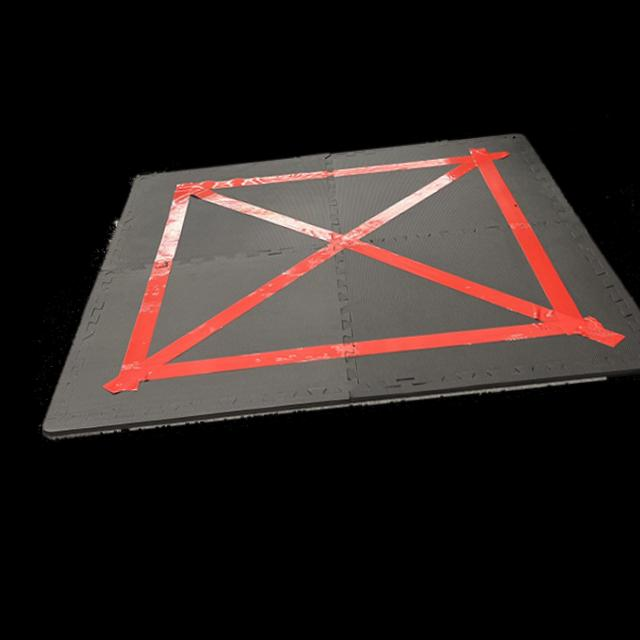landingPads: (16, 130, 640, 438)
